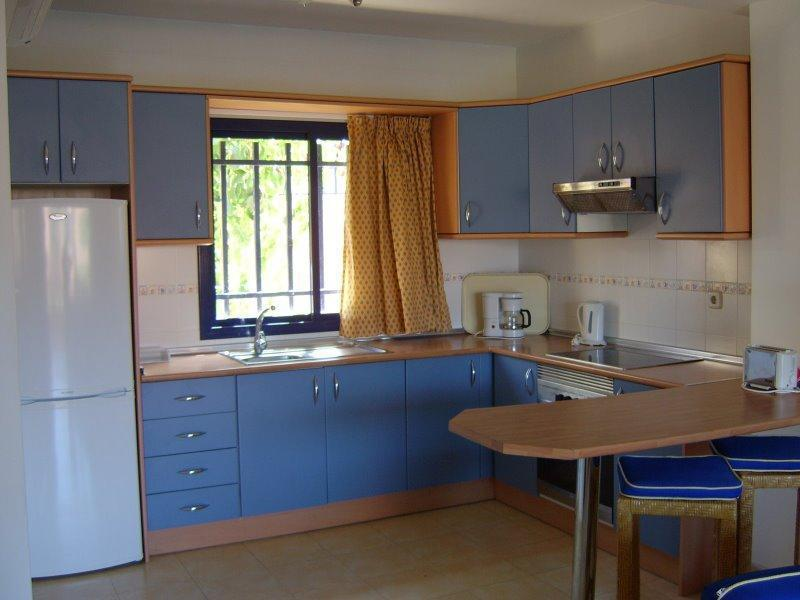Electrodomestico: (9, 196, 140, 570)
Lavaplatos: (226, 295, 401, 385)
